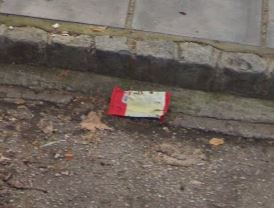trash: (103, 79, 170, 123)
